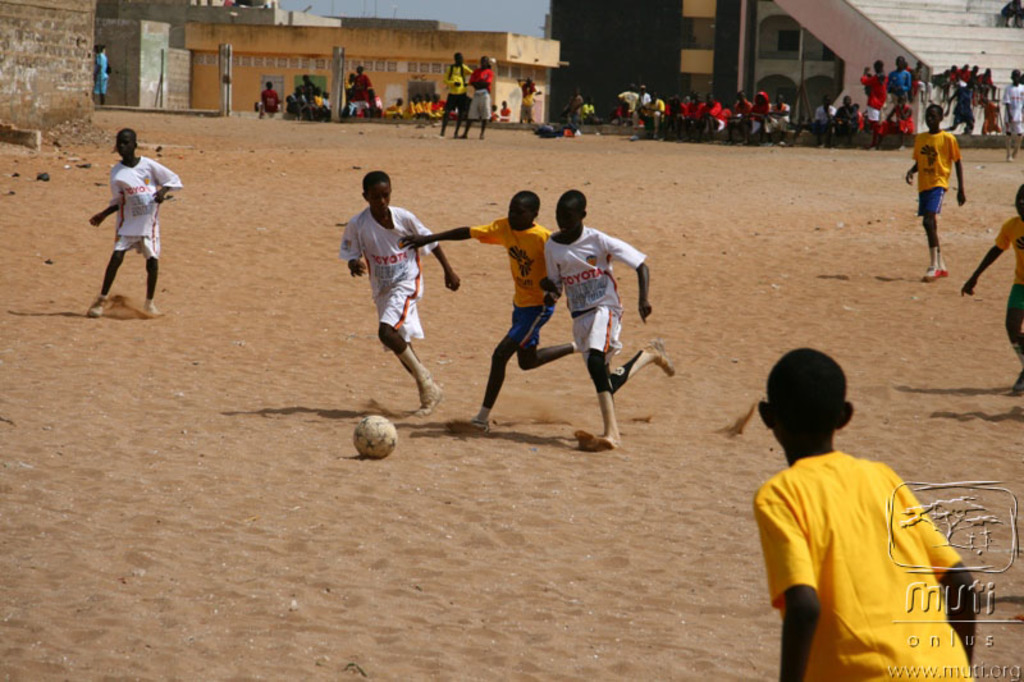Person: (743, 344, 982, 682), (566, 53, 1024, 146), (536, 183, 680, 449), (401, 189, 561, 425), (339, 170, 462, 417), (253, 49, 540, 137), (86, 126, 183, 314), (958, 178, 1024, 395), (899, 104, 973, 278), (87, 40, 114, 100)
